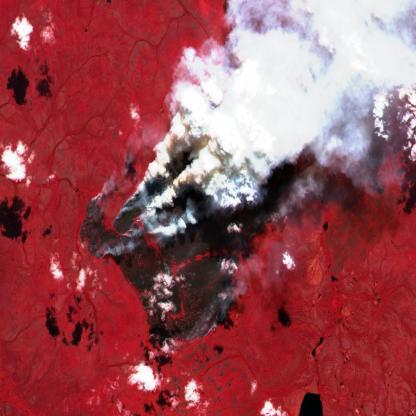fire: (77, 110, 304, 356)
